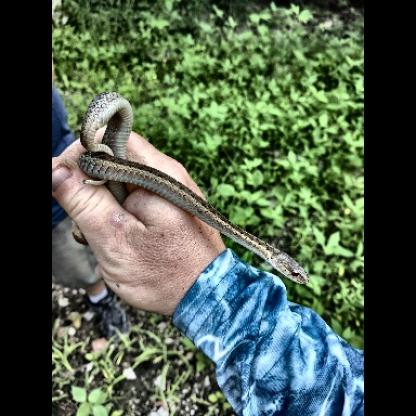Snake: (80, 91, 308, 289)
